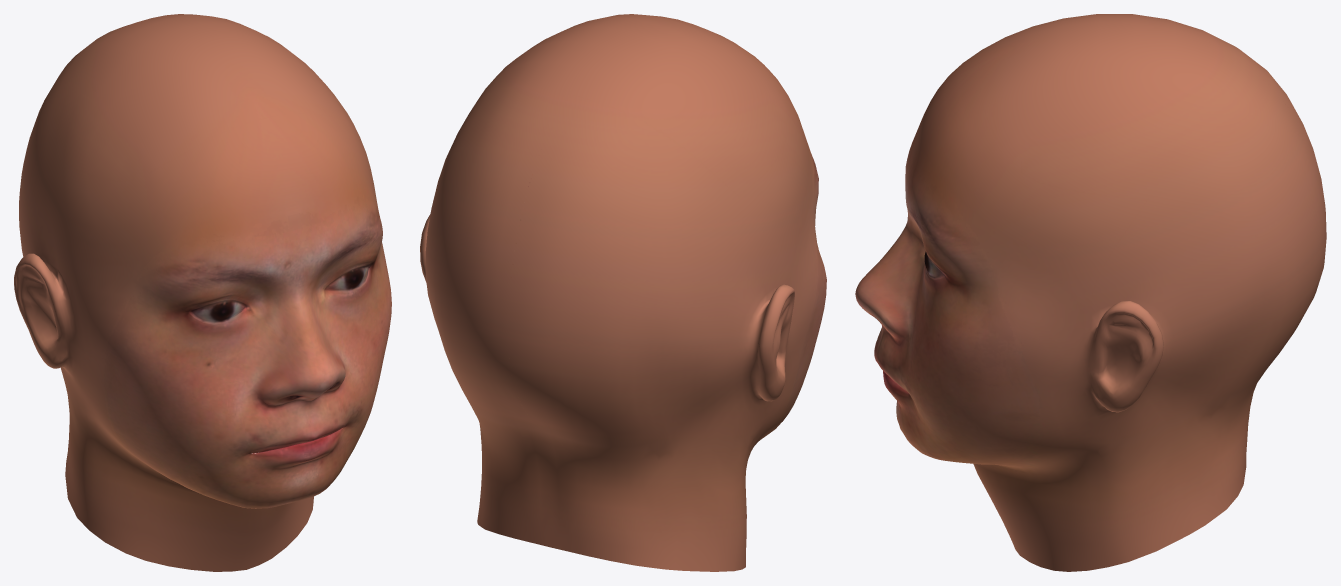
3 renders of one model, left to right at view 1: azimuth 30°, elevation 25°; view 2: azimuth 150°, elevation 25°; view 3: azimuth 270°, elevation 25°, orthographic. The views are drawn at different scales.
Visible parts, largest first — view 1: Surf0; view 2: Surf0; view 3: Surf0.
Part boxes in pixels (x1,y1,x2,y2): Surf0: [14, 14, 391, 571]; Surf0: [420, 14, 826, 571]; Surf0: [855, 14, 1326, 571].
Bounding box in the file's own units: 194 × 281 × 233.
Materials: 2 (1 with a texture image).
